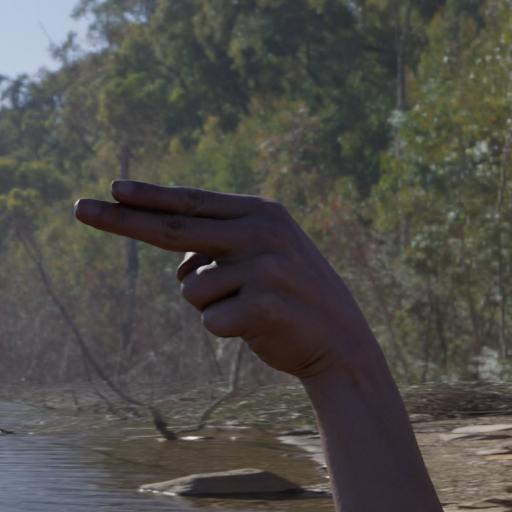H: (58, 166, 444, 512)
